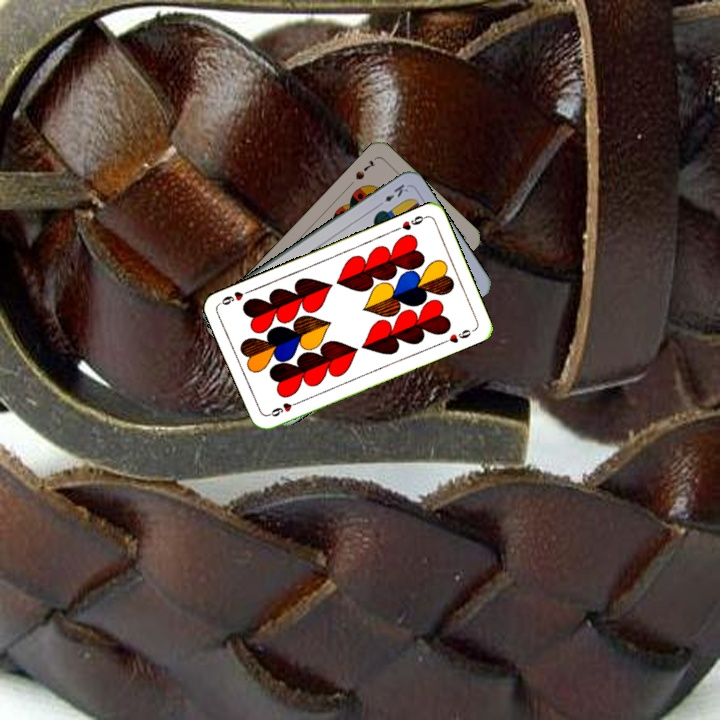EK: (373, 180, 411, 210)
H9: (391, 211, 429, 234), (264, 397, 303, 419)
S7: (351, 156, 378, 182)
